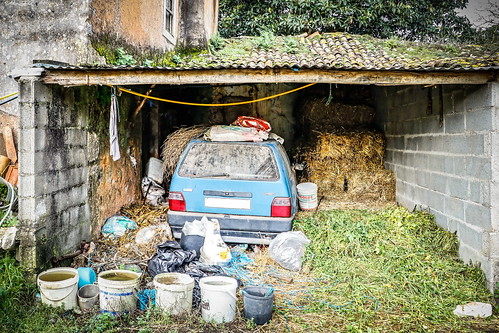building: (16, 9, 499, 333)
car: (165, 128, 300, 243)
trash: (42, 219, 313, 322)
